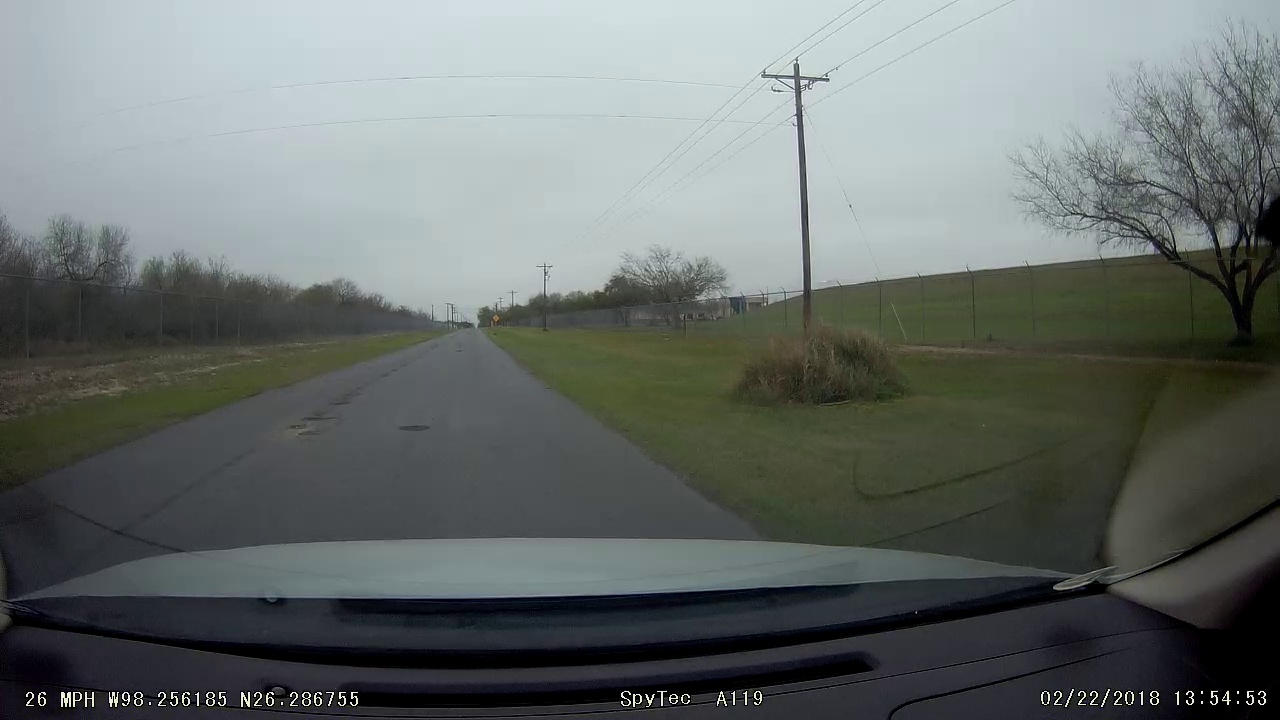pothole: (392, 403, 441, 445), (281, 413, 321, 444)
